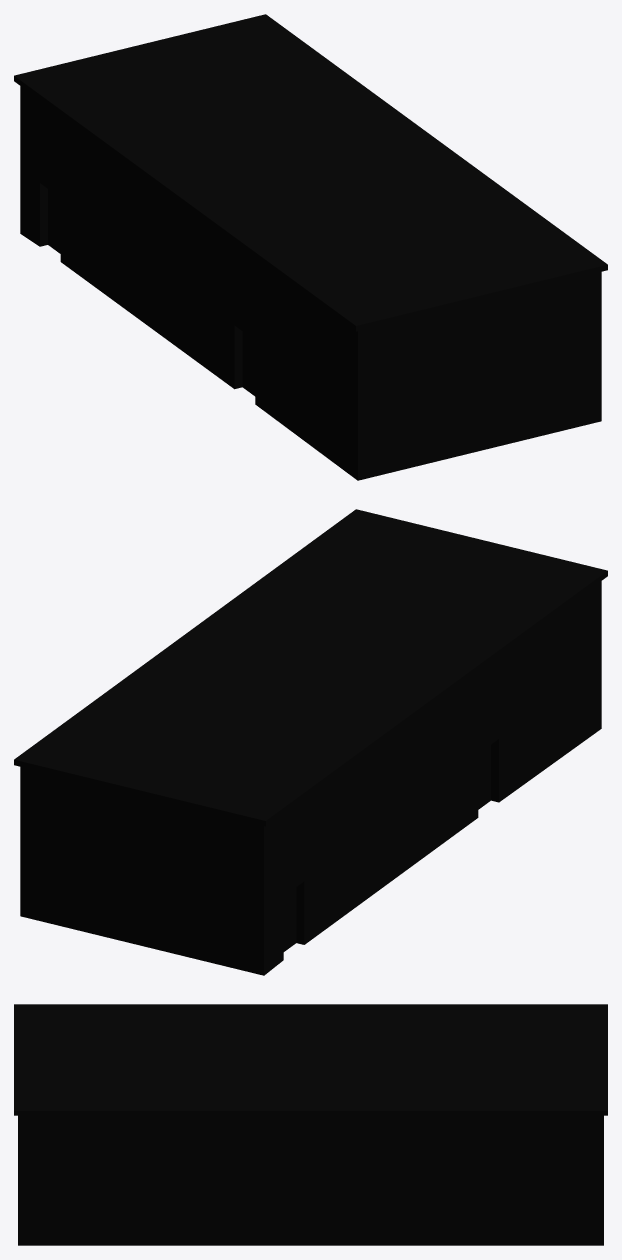
The model's file is BUILD.FBX.
3 views of the same model, one above another, from view 1: azimuth 30°, elevation 25°; view 2: azimuth 150°, elevation 25°; view 3: azimuth 270°, elevation 25° (orthographic). The views are drawn at different scales.
Visible parts, largest first — view 1: Mesh Object; view 2: Mesh Object; view 3: Mesh Object.
Part boxes in pixels (box(x1,y1,x2,y2)): Mesh Object: box(14, 14, 607, 480); Mesh Object: box(14, 509, 607, 975); Mesh Object: box(14, 1004, 607, 1245).
Bounding box in the file's own units: 541 × 323 × 1272.
